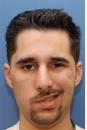strokeEyeMid: (17, 57, 71, 75)
strokeMouthMid: (31, 90, 65, 107)
